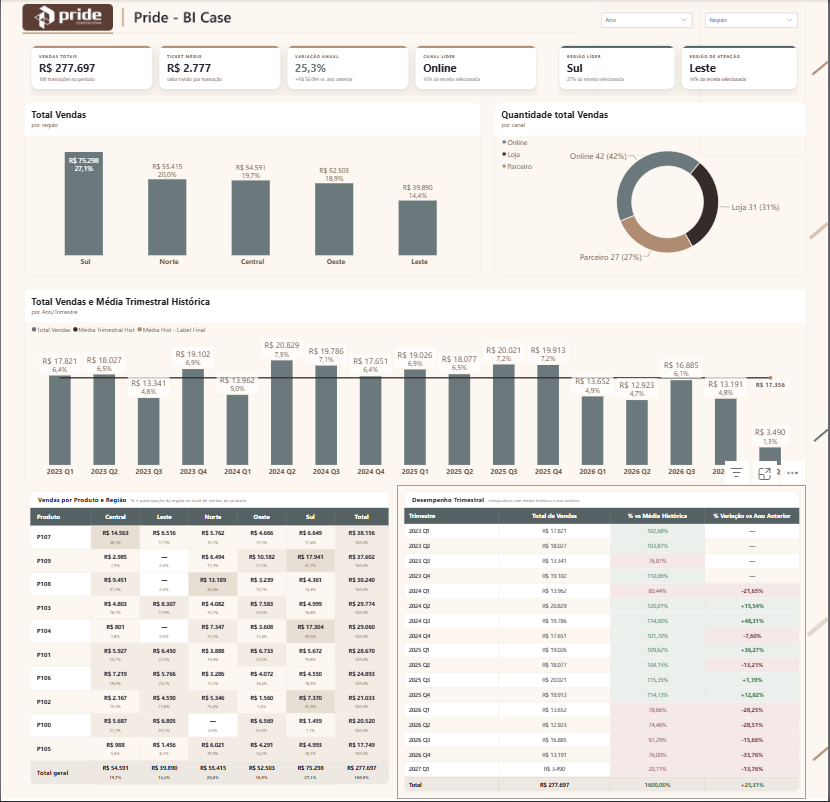

The page's visual inventory and layout, read from the dashboard file:
{"tool":"powerbi","page":{"name":"I","canvas":[1920,1860],"ordinal":0},"visuals":[{"type":"SmartFilterBySQLBI1458262140625","fields":{"Values":["dCalendario.Ano"]},"box":[1375,13.3,246.7,350],"z":1000},{"type":"SmartFilterBySQLBI1458262140625","fields":{"Values":["fVendas.REGIÃO"]},"box":[1616.7,13.3,250,350],"z":1500},{"type":"htmlContent443BE3AD55E043BF878BED274D3A6855","fields":{"content":["Medidas.HTML Cards Executivos"]},"box":[52,90,1210,150],"z":2000},{"type":"htmlContent443BE3AD55E043BF878BED274D3A6855","fields":{"content":["Medidas.HTML Cards Regioes"]},"box":[1276,90,590,150],"z":2100},{"type":"columnChart","title":"Total Vendas","fields":{"Category":["fVendas.REGIÃO"],"Y":["Medidas.Total Vendas"]},"box":[52.5,240,1060,402.5],"z":3000},{"type":"donutChart","title":"Quantidade total Vendas","fields":{"Category":["fVendas.CANAL_VENDA"],"Y":["Medidas.Qtd Vendas"]},"box":[1142.5,240,725,402.5],"z":4000},{"type":"lineStackedColumnComboChart","title":"Total Vendas e Média Trimestral Histórica","fields":{"Category":["dCalendario.AnoTri"],"Y":["Medidas.Total Vendas"],"Y2":["Medidas.Média Trimestral Hist","Medidas.Média Hist - Label Final"]},"box":[52.5,672.5,1815,455],"z":5000},{"type":"htmlContent443BE3AD55E043BF878BED274D3A6855","fields":{"content":["Medidas.HTML Tabela Trimestral"]},"box":[917.5,1127.5,950,727.5],"z":7000},{"type":"htmlContent443BE3AD55E043BF878BED274D3A6855","fields":{"content":["Medidas.HTML Vendas Produto Regiao"]},"box":[51.6,1127.1,865,710],"z":8000}]}

Visuals, with their boxes in screenshot pixels (x1, y1, x2, y2), scaled from the page's 1920x1860 canvas onto the 830x802 screenshot:
SmartFilterBySQLBI1458262140625 - dCalendario.Ano: [594,6,701,157]
SmartFilterBySQLBI1458262140625 - fVendas.REGIÃO: [699,6,807,157]
htmlContent443BE3AD55E043BF878BED274D3A6855 - Medidas.HTML Cards Executivos: [22,39,546,103]
htmlContent443BE3AD55E043BF878BED274D3A6855 - Medidas.HTML Cards Regioes: [552,39,807,103]
"Total Vendas" columnChart: [23,103,481,277]
"Quantidade total Vendas" donutChart: [494,103,807,277]
"Total Vendas e Média Trimestral Histórica" lineStackedColumnComboChart: [23,290,807,486]
htmlContent443BE3AD55E043BF878BED274D3A6855 - Medidas.HTML Tabela Trimestral: [397,486,807,800]
htmlContent443BE3AD55E043BF878BED274D3A6855 - Medidas.HTML Vendas Produto Regiao: [22,486,396,792]
